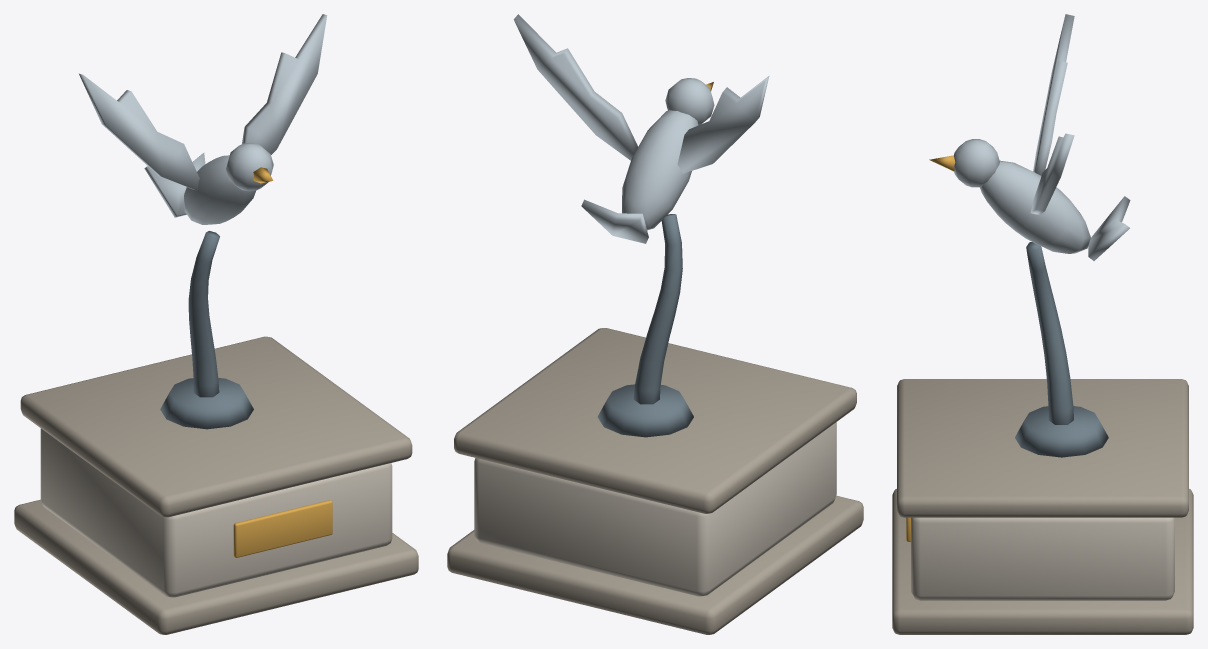
Rendered from art-rising-bird.glb.
3 views of the same model, side by side, from view 1: azimuth 30°, elevation 25°; view 2: azimuth 150°, elevation 25°; view 3: azimuth 270°, elevation 25° (orthographic). The views are drawn at different scales.
Parts seen in each view (by area): view 1: art; view 2: art; view 3: art.
Boxes of the visible parts, x1,y1,x2,y2 form: art: (14,14,418,634); art: (447,14,863,634); art: (892,14,1193,634).
Bounding box in the file's own units: 0.32 × 0.5864 × 0.32.
